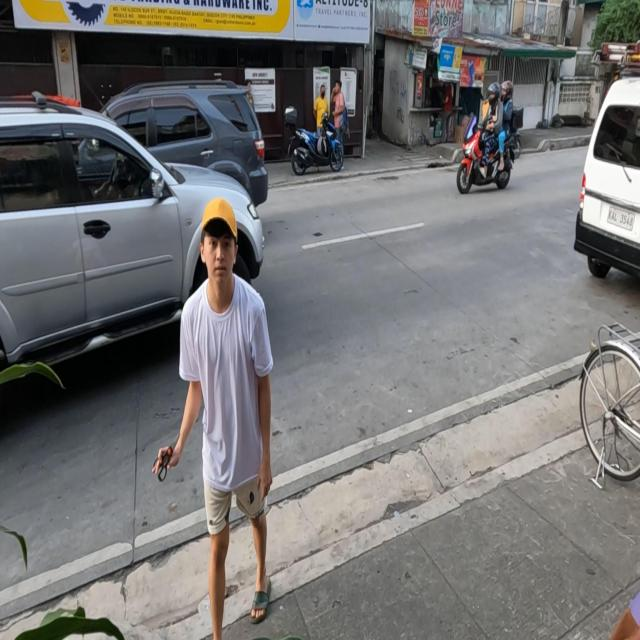scissor: (153, 432, 180, 482)
